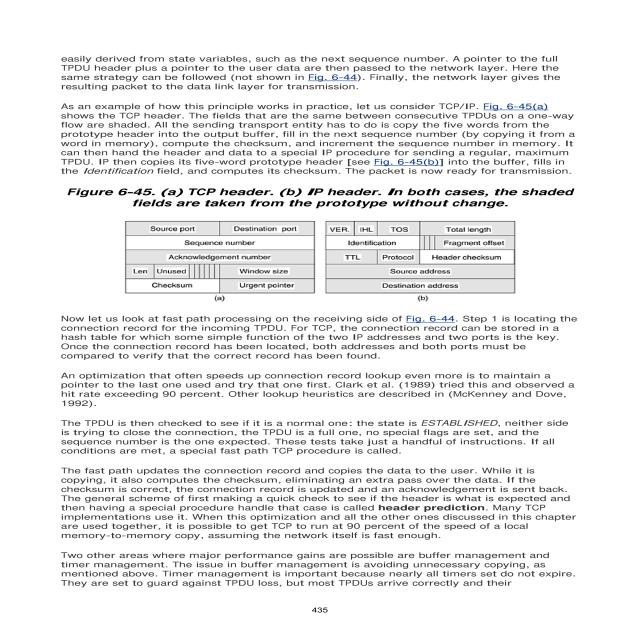diagram: (8, 182, 595, 310)
